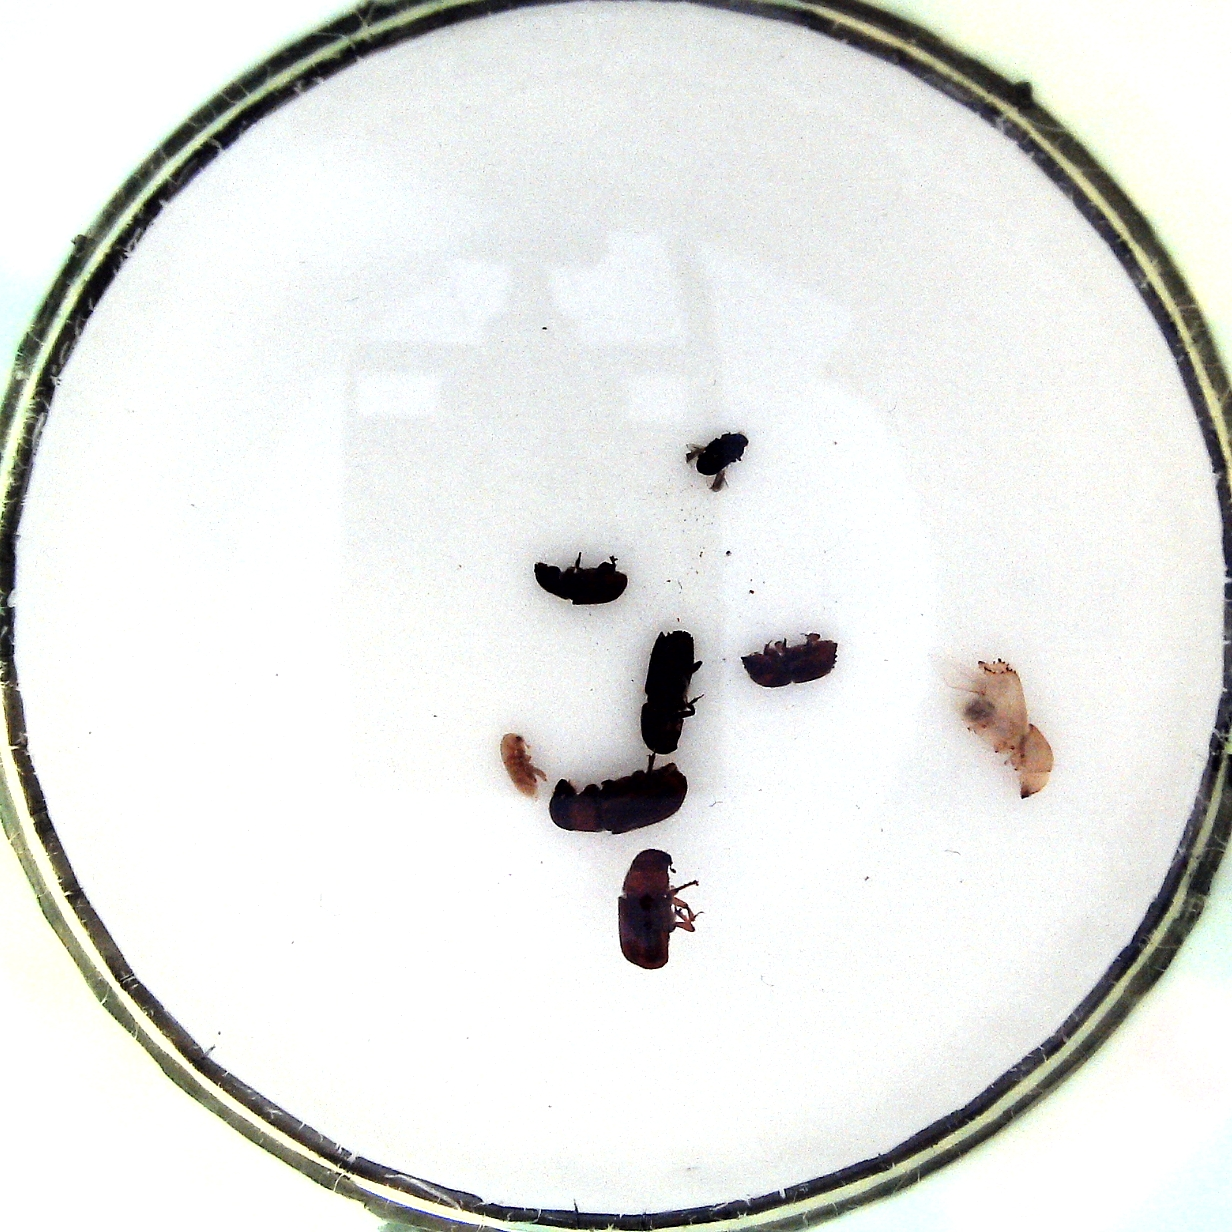Boerner: (940, 655, 1061, 801), (639, 626, 702, 755)
Leconte: (549, 753, 690, 844), (615, 846, 704, 969)
Linnaeus: (737, 631, 839, 692)
acuminatus: (494, 727, 551, 800)
armandi: (528, 549, 632, 608)
coleoptera: (684, 426, 751, 495)
